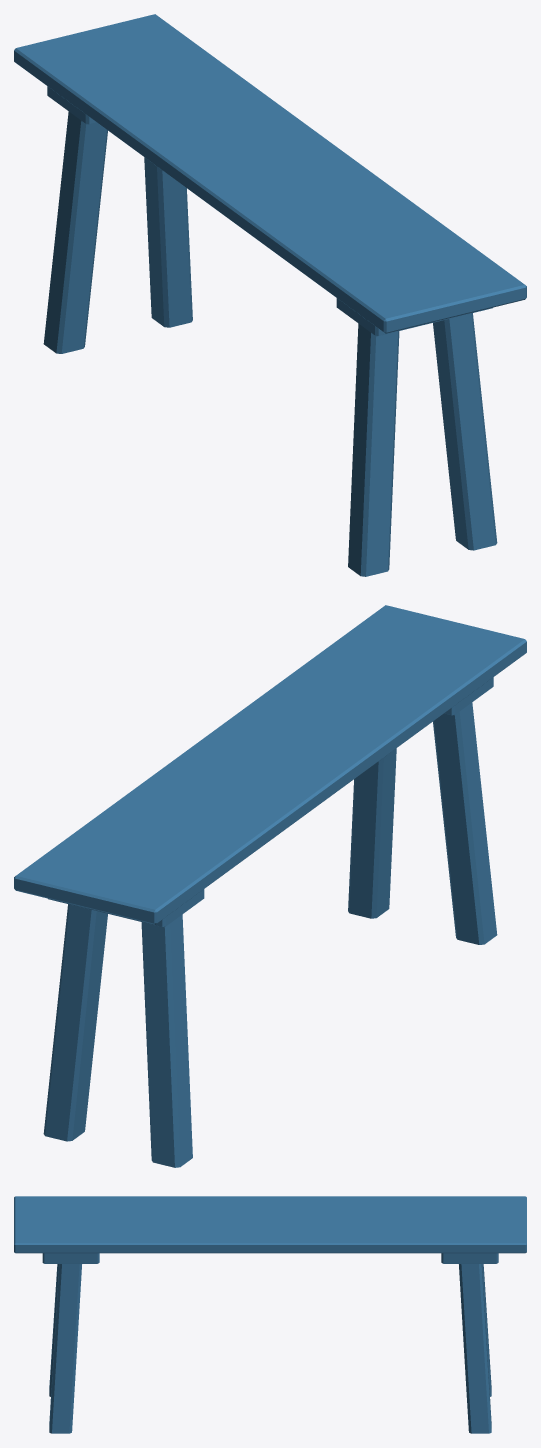
Rendered from SmallTable.fbx.
3 renders of one model, top to bottom at view 1: azimuth 30°, elevation 25°; view 2: azimuth 150°, elevation 25°; view 3: azimuth 270°, elevation 25°, orthographic. The views are drawn at different scales.
Visible parts, largest first — view 1: MiniTable001; view 2: MiniTable001; view 3: MiniTable001.
Part boxes in pixels (x1,y1,x2,y2): MiniTable001: (14,14,526,576); MiniTable001: (14,605,526,1167); MiniTable001: (14,1196,526,1433).
Bounding box in the file's own units: 40 × 74 × 180.
